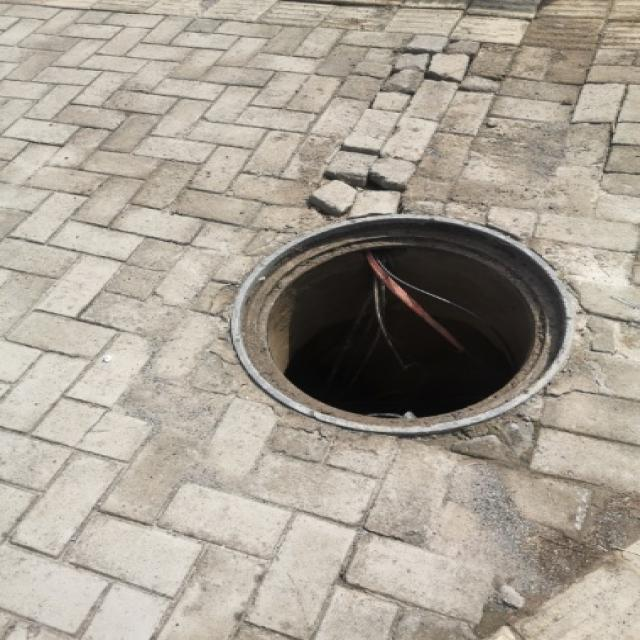Uncovered: (196, 192, 611, 448)
